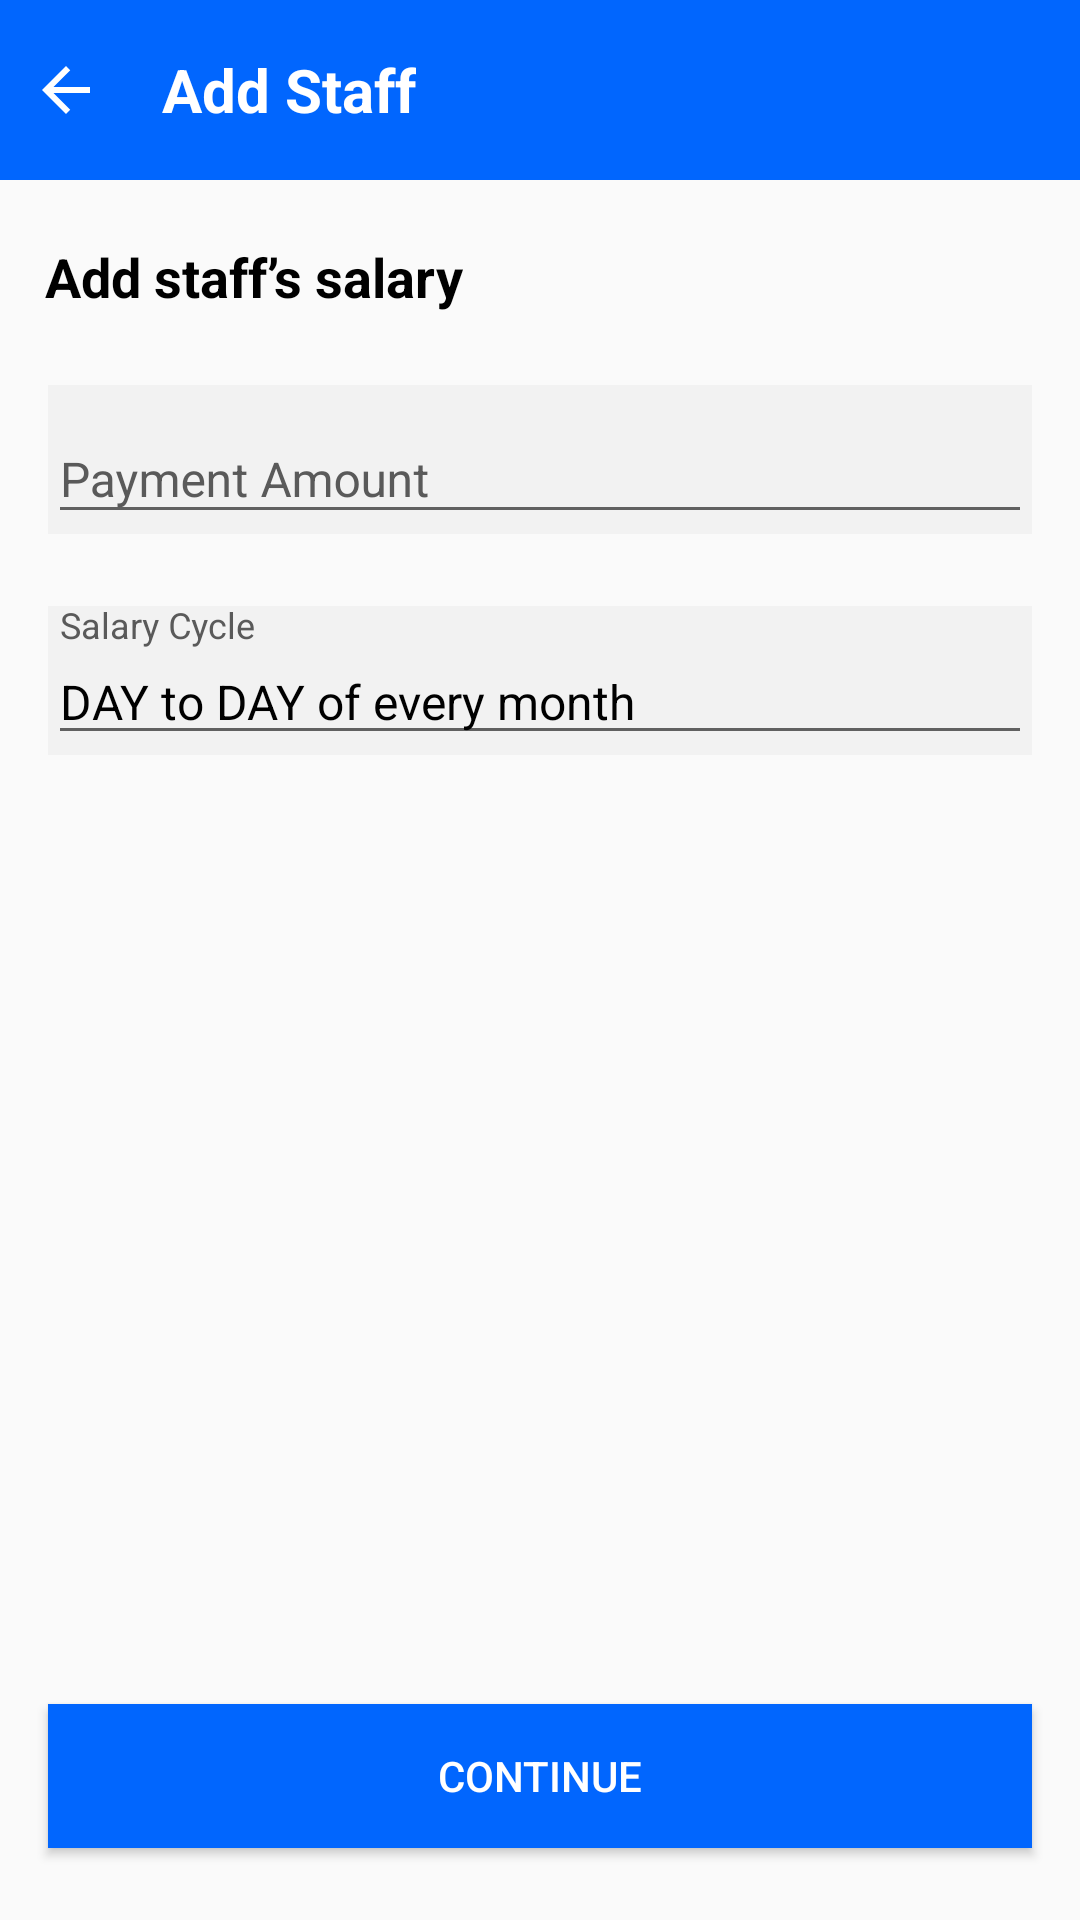

Point at icon controls on the screen. Image size 1080px x 1920px, points as point (x, y).
arrow back: point (66, 90)
